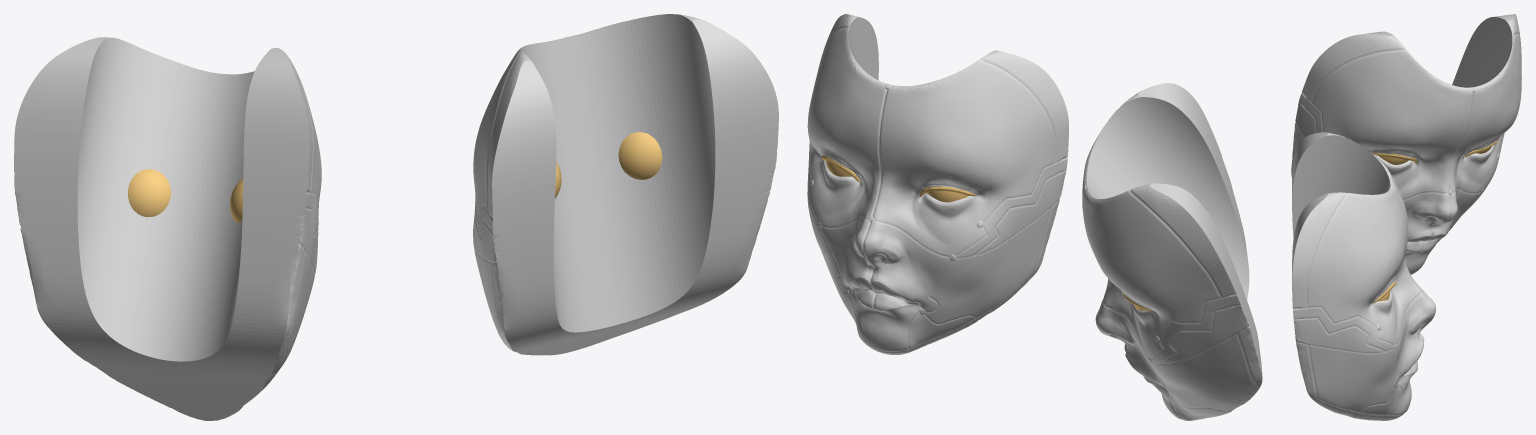
File: geisha-mask.fbx
The picture shows the model from 3 angles, left to right: view 1: azimuth 30°, elevation 25°; view 2: azimuth 150°, elevation 25°; view 3: azimuth 270°, elevation 25°; orthographic projection. The views are drawn at different scales.
Parts seen in each view (by area): view 1: Sphere.001, Sphere.000, Sphere.003, Sphere.002; view 2: Sphere.000, Sphere.001, Sphere.002, Plane.001; view 3: Sphere.000, Sphere.001, Plane.000.
Boxes of the visible parts, box(x1,y1,x2,y2) form: Sphere.001: box(14, 37, 321, 420); Sphere.000: box(473, 14, 778, 355); Sphere.003: box(127, 169, 243, 222); Sphere.002: box(555, 132, 662, 198); Sphere.000: box(807, 14, 1068, 354); Sphere.001: box(1082, 83, 1262, 420); Sphere.002: box(826, 161, 967, 202); Plane.001: box(822, 156, 976, 197); Sphere.000: box(1292, 132, 1435, 420); Sphere.001: box(1291, 14, 1521, 274); Plane.000: box(1371, 139, 1498, 163).
Size of the model in its own units: 358 by 205 by 155.
